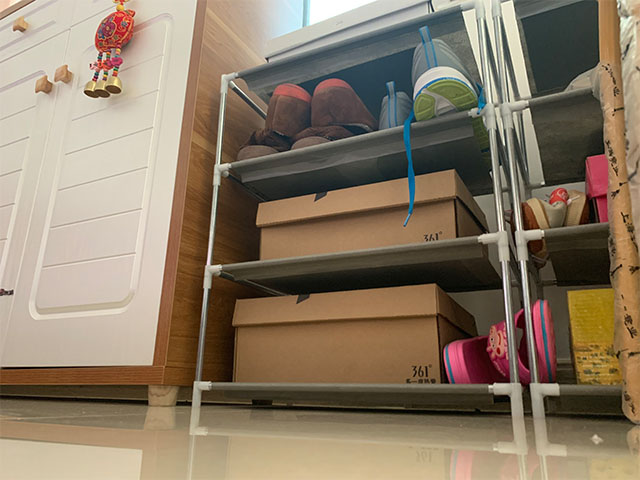cabinet: (1, 1, 293, 408)
